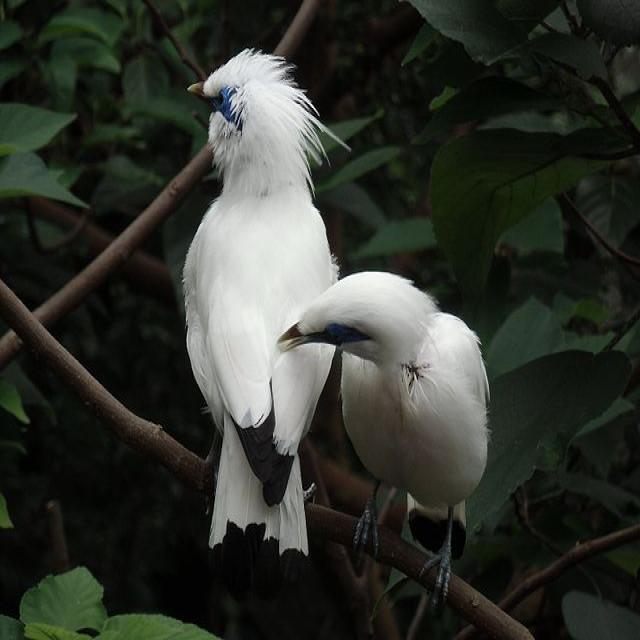Jalak Bali: (146, 28, 350, 576), (279, 252, 509, 614)
